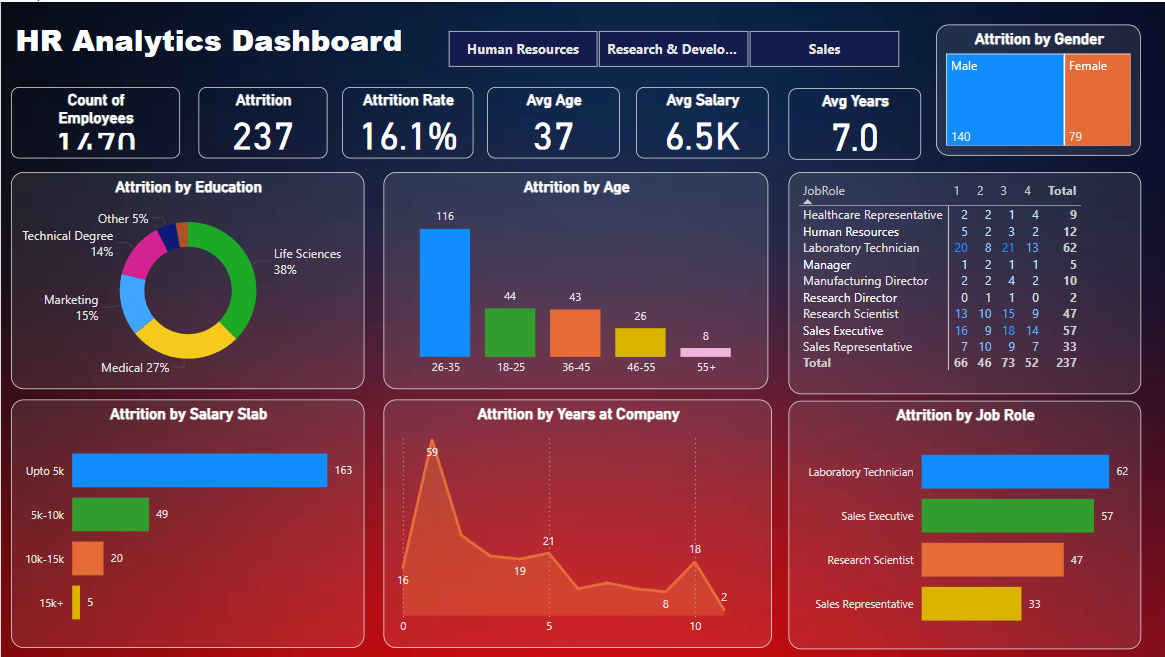

This screenshot's page, from the dashboard's own definition file:
{"tool":"powerbi","page":{"name":"Page 1","canvas":[1280,720],"ordinal":0},"visuals":[{"type":"card","title":"Count of Employees","fields":{"Values":["CountNonNull(HR_Analytics.EmpID)"]},"box":[11,93.3,185.2,78.2],"z":0},{"type":"card","title":"Avg Age","fields":{"Values":["Avg(HR_Analytics.Age)"]},"box":[533.8,93.3,145.5,78.2],"z":1000},{"type":"card","title":"Attrition Rate","fields":{"Values":["HR_Analytics.AttritionRate"]},"box":[374.6,93.3,144.1,78.2],"z":2000},{"type":"card","title":"Attrition","fields":{"Values":["Sum(HR_Analytics.AttritionCount)"]},"box":[216.8,93.3,141.3,78.2],"z":3000},{"type":"card","title":"Avg Years","fields":{"Values":["Avg(HR_Analytics.YearsAtCompany)"]},"box":[864.5,94.7,145.5,78.2],"z":4000},{"type":"card","title":"Avg Salary","fields":{"Values":["Avg(HR_Analytics.MonthlyIncome)"]},"box":[697.1,93.3,145.5,78.2],"z":5000},{"type":"donutChart","title":"Attrition by Education","fields":{"Category":["HR_Analytics.EducationField"],"Y":["Sum(HR_Analytics.AttritionCount)"]},"box":[11,186.6,388.3,238.8],"z":6000},{"type":"columnChart","title":"Attrition by Age","fields":{"Category":["HR_Analytics.AgeGroup"],"Y":["Sum(HR_Analytics.AttritionCount)"]},"box":[419.9,186.6,422.6,238.8],"z":7000},{"type":"pivotTable","fields":{"Rows":["HR_Analytics.JobRole"],"Columns":["HR_Analytics.JobSatisfaction"],"Values":["Sum(HR_Analytics.AttritionCount)"]},"box":[864.5,186.6,387,244.3],"z":8000},{"type":"barChart","title":"Attrition by Salary Slab","fields":{"Category":["HR_Analytics.SalarySlab"],"Y":["Sum(HR_Analytics.AttritionCount)"]},"box":[11,436.4,388.3,273.1],"z":9000},{"type":"barChart","title":"Attrition by Job Role","fields":{"Category":["HR_Analytics.JobRole"],"Y":["Sum(HR_Analytics.AttritionCount)"]},"box":[864.5,437.7,387,273.1],"z":10000},{"type":"areaChart","title":"Attrition by Years at Company","fields":{"Category":["HR_Analytics.YearsAtCompany"],"Y":["Sum(HR_Analytics.AttritionCount)"]},"box":[419.9,436.4,426.8,273.1],"z":11000},{"type":"treemap","title":"Attrition by Gender","fields":{"Group":["HR_Analytics.Gender"],"Values":["Sum(HR_Analytics.AttritionCount)"]},"box":[1026.4,24.7,225,144.1],"z":12000},{"type":"slicer","fields":{"Values":["HR_Analytics.Department"]},"box":[465.2,24.7,544.8,53.5],"z":13000},{"type":"textbox","box":[11,13.7,463.8,64.5],"z":14000}]}

Visuals, with their boxes in screenshot pixels (x1, y1, x2, y2), scaled from the page's 1280x720 canvas onto the 1165x657 screenshot:
"Count of Employees" card: pyautogui.locateOnScreen(10, 85, 179, 156)
"Avg Age" card: pyautogui.locateOnScreen(486, 85, 618, 156)
"Attrition Rate" card: pyautogui.locateOnScreen(341, 85, 472, 156)
"Attrition" card: pyautogui.locateOnScreen(197, 85, 326, 156)
"Avg Years" card: pyautogui.locateOnScreen(787, 86, 919, 158)
"Avg Salary" card: pyautogui.locateOnScreen(634, 85, 767, 156)
"Attrition by Education" donutChart: pyautogui.locateOnScreen(10, 170, 363, 388)
"Attrition by Age" columnChart: pyautogui.locateOnScreen(382, 170, 767, 388)
pivotTable - HR_Analytics.JobRole x HR_Analytics.JobSatisfaction: pyautogui.locateOnScreen(787, 170, 1139, 393)
"Attrition by Salary Slab" barChart: pyautogui.locateOnScreen(10, 398, 363, 647)
"Attrition by Job Role" barChart: pyautogui.locateOnScreen(787, 399, 1139, 649)
"Attrition by Years at Company" areaChart: pyautogui.locateOnScreen(382, 398, 771, 647)
"Attrition by Gender" treemap: pyautogui.locateOnScreen(934, 23, 1139, 154)
slicer - HR_Analytics.Department: pyautogui.locateOnScreen(423, 23, 919, 71)
textbox: pyautogui.locateOnScreen(10, 13, 432, 71)
